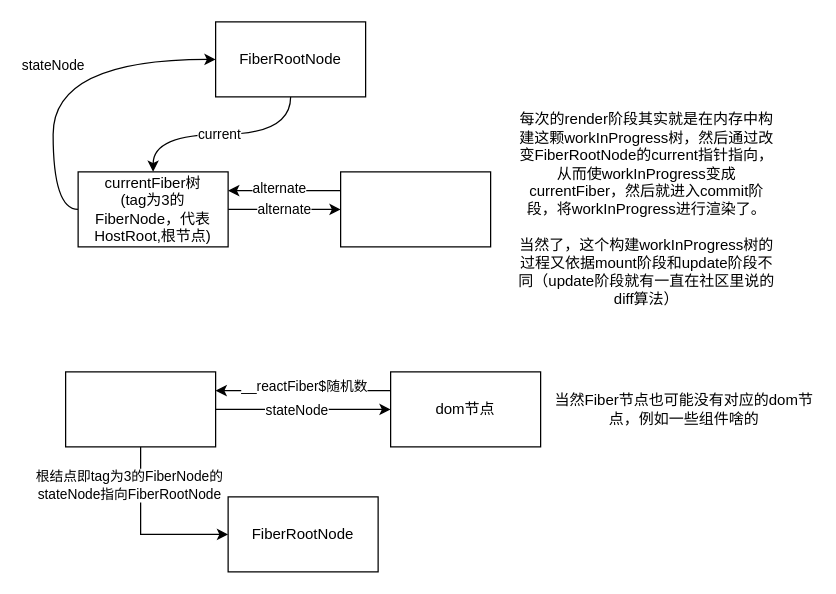
This 836x594 diagram has some shape labels left out. The shapes that lost their labels are listed below. From the top down, each one's centre as x and y in pixels, then its label:
At (415,209): "workInProgress树(FiberNode)".
At (140,409): "Fiber节点".
